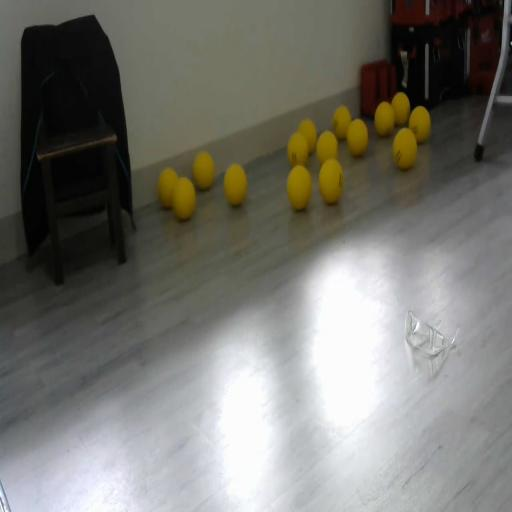FUEL: (286, 164, 312, 210), (318, 158, 344, 204), (222, 162, 248, 206), (392, 128, 418, 170), (192, 150, 215, 190), (157, 167, 179, 208), (408, 105, 431, 144), (346, 118, 368, 156), (316, 130, 338, 166), (391, 91, 411, 127), (374, 101, 394, 137), (298, 118, 317, 154), (333, 106, 351, 140)
